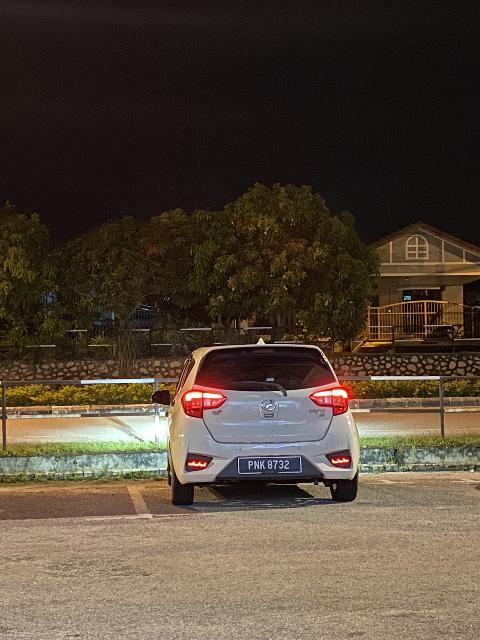License_Plate: (238, 459, 304, 478)
car: (157, 333, 361, 513)
